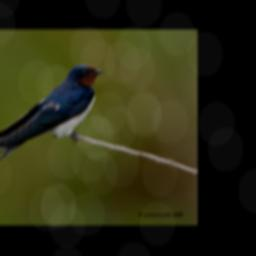Swallow: (0, 65, 105, 182)
